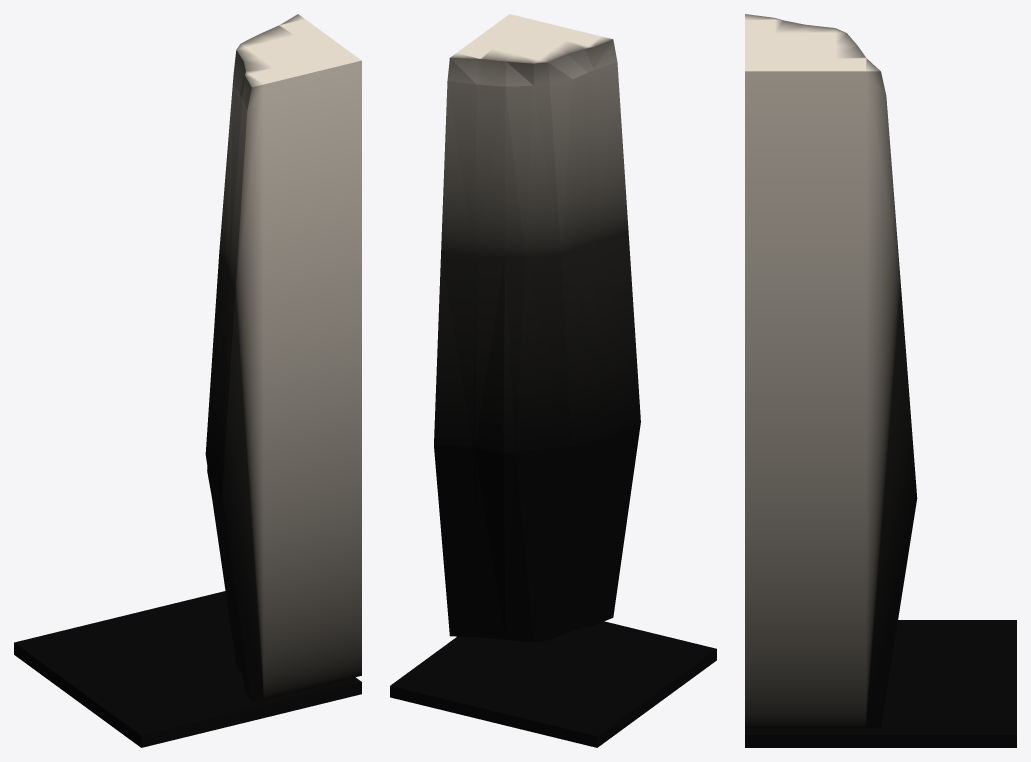
Rendered from SM_VKI_Ground_Cave_XOXX_Q11.fbx.
3 renders of one model, left to right at view 1: azimuth 30°, elevation 25°; view 2: azimuth 150°, elevation 25°; view 3: azimuth 270°, elevation 25°, orthographic. The views are drawn at different scales.
Visible parts, largest first — view 1: SM_VKI_Ground_Cave_XOXX_Q11.001; view 2: SM_VKI_Ground_Cave_XOXX_Q11.001; view 3: SM_VKI_Ground_Cave_XOXX_Q11.001.
Part boxes in pixels (<box>): SM_VKI_Ground_Cave_XOXX_Q11.001: <box>14,14,361,747</box>; SM_VKI_Ground_Cave_XOXX_Q11.001: <box>390,14,716,747</box>; SM_VKI_Ground_Cave_XOXX_Q11.001: <box>745,14,1016,747</box>.
Bounding box in the file's own units: 1.5 × 4.12 × 1.5.
